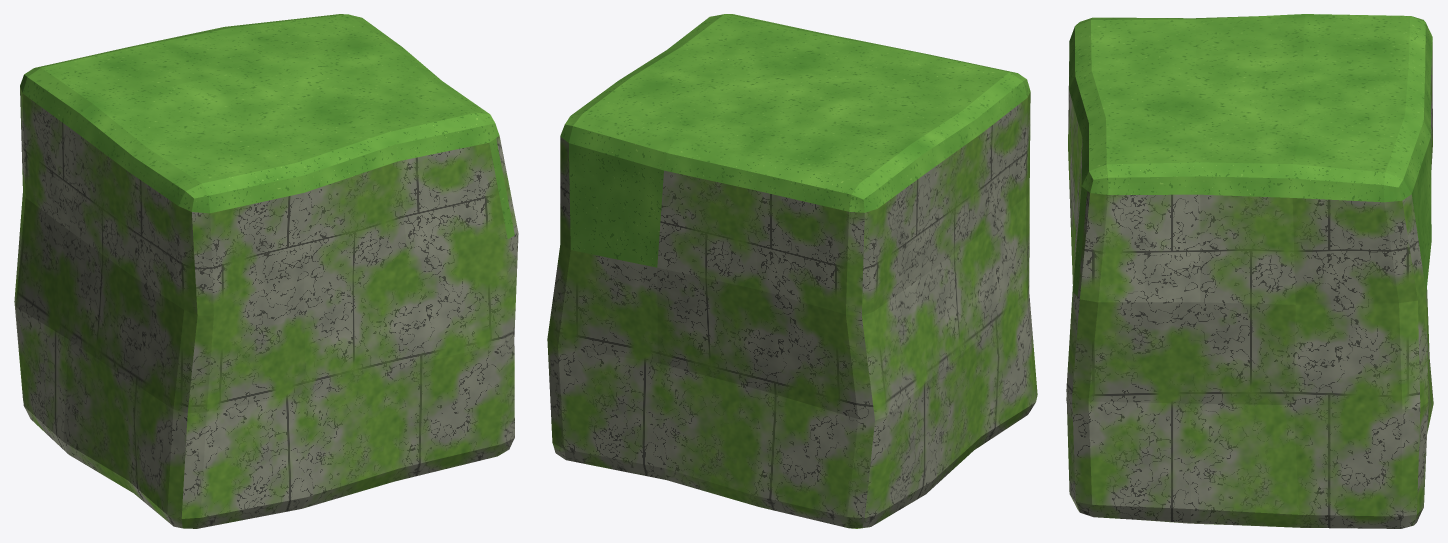
File: CliffBlock_A.fbx
3 renders of one model, left to right at view 1: azimuth 30°, elevation 25°; view 2: azimuth 150°, elevation 25°; view 3: azimuth 270°, elevation 25°, orthographic. The views are drawn at different scales.
Visible parts, largest first — view 1: CliffBlock_A.001; view 2: CliffBlock_A.001; view 3: CliffBlock_A.001.
Part boxes in pixels (x1,y1,x2,y2): CliffBlock_A.001: (14,14,518,528); CliffBlock_A.001: (547,14,1037,528); CliffBlock_A.001: (1066,14,1433,528).
Bounding box in the file's own units: 2.09 × 2.06 × 1.87.
